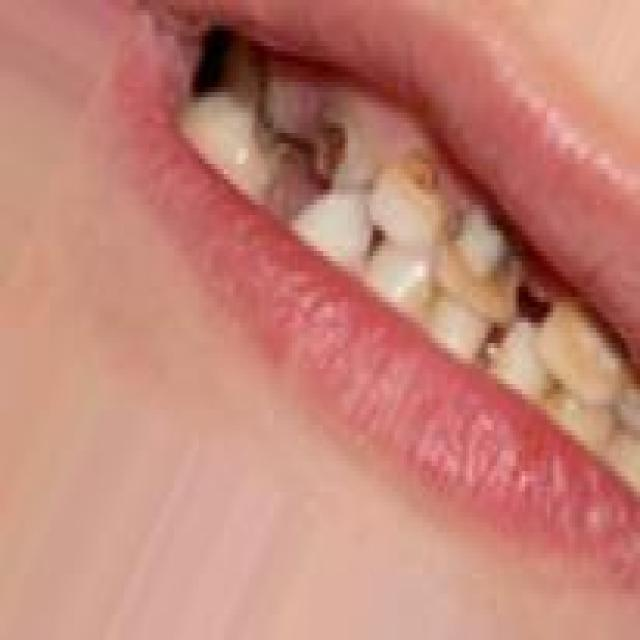caries: (436, 188, 528, 330), (237, 55, 305, 172), (306, 96, 378, 198), (384, 129, 453, 234)
